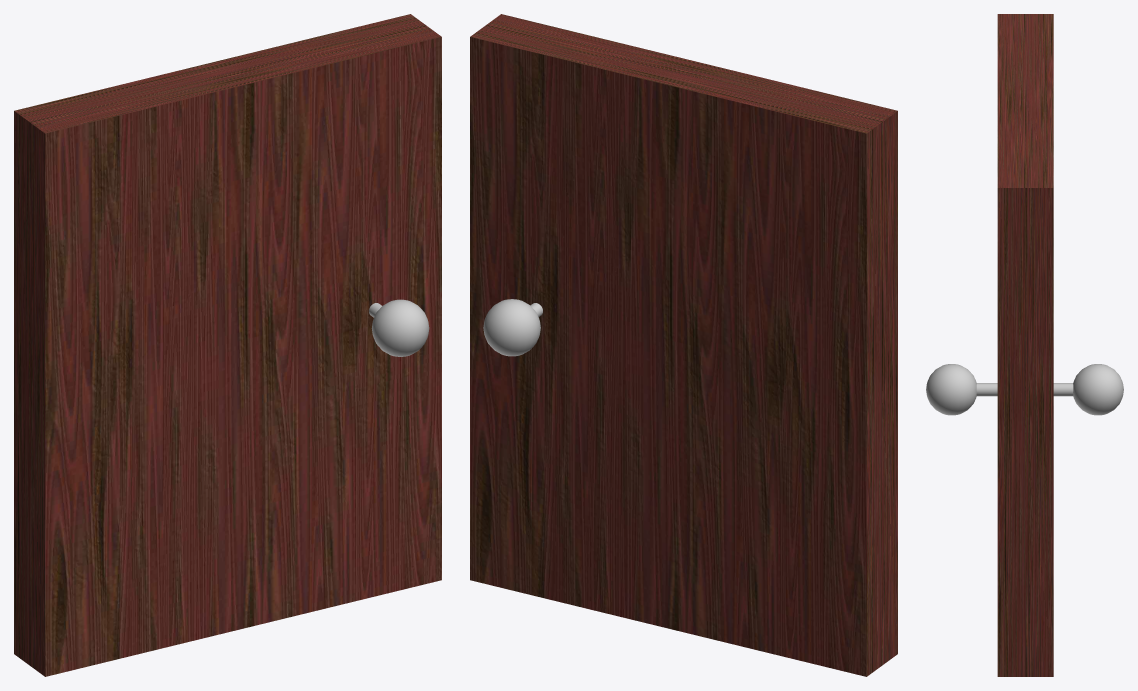
The model's file is door_norm.fbx.
3 renders of one model, left to right at view 1: azimuth 30°, elevation 25°; view 2: azimuth 150°, elevation 25°; view 3: azimuth 270°, elevation 25°, orthographic. The views are drawn at different scales.
Visible parts, largest first — view 1: door, doorknob_1; view 2: door, doorknob; view 3: door, doorknob_1, doorknob, Cylinder.
Boxes of the visible parts, x1,y1,x2,y2 form: door: (14,14,441,676); doorknob_1: (371,299,429,356); door: (470,14,897,676); doorknob: (483,299,540,356); door: (997,14,1053,676); doorknob_1: (926,364,976,415); doorknob: (1073,364,1123,415); Cylinder: (976,383,1073,396).
Size of the model in its own units: 329 by 431 by 158.
Materials: 2 (1 with a texture image).
